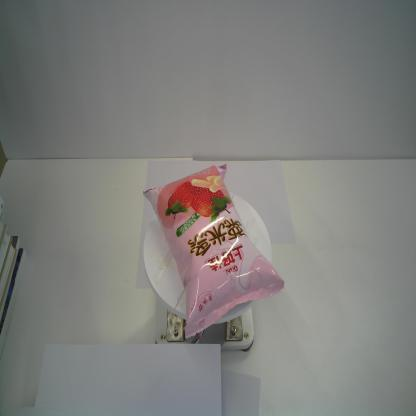Puffed Food: (143, 161, 286, 341)
